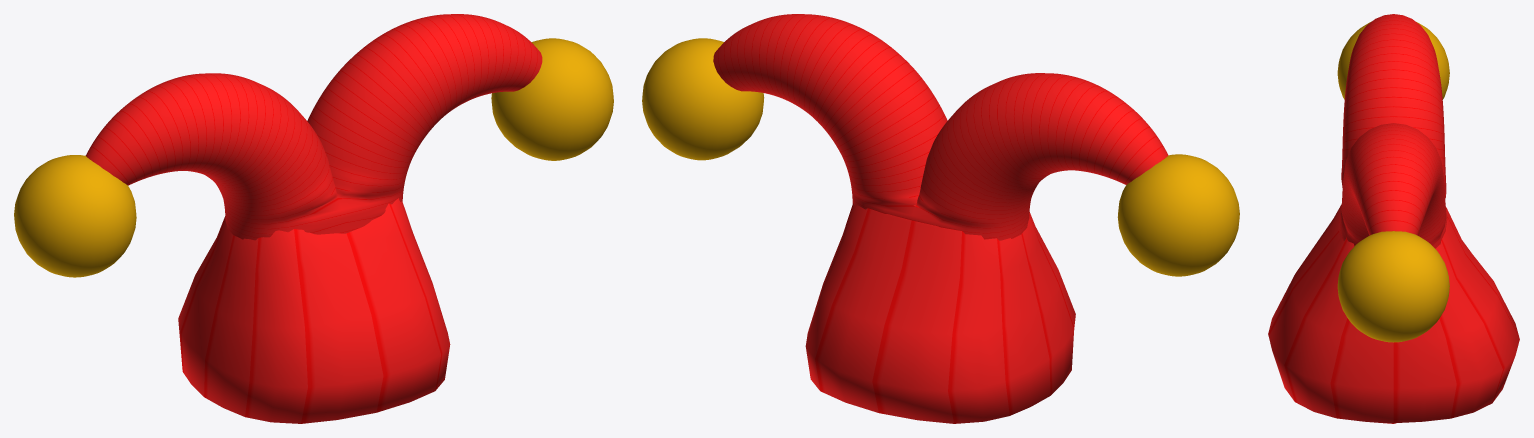
The model's file is JesterHat2.fbx.
3 views of the same model, side by side, from view 1: azimuth 30°, elevation 25°; view 2: azimuth 150°, elevation 25°; view 3: azimuth 270°, elevation 25° (orthographic). The views are drawn at different scales.
Visible parts, largest first — view 1: Sphere.002; view 2: Sphere.002; view 3: Sphere.002.
Part boxes in pixels (box(x1,y1,x2,y2)): Sphere.002: box(14, 14, 613, 423); Sphere.002: box(642, 14, 1239, 423); Sphere.002: box(1268, 14, 1519, 423).
Bounding box in the file's own units: 395 × 214 × 161.
